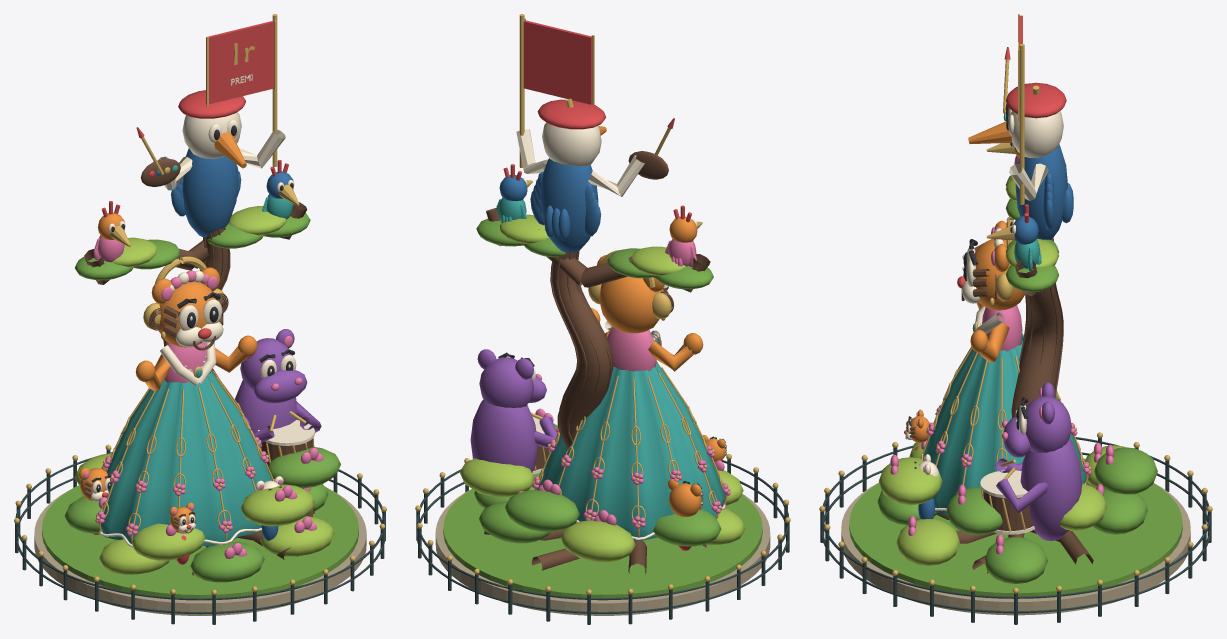
File: falla-crafted.glb
3 views of the same model, side by side, from view 1: azimuth 30°, elevation 25°; view 2: azimuth 150°, elevation 25°; view 3: azimuth 270°, elevation 25° (orthographic). The views are drawn at different scales.
Parts seen in each view (by area): view 1: Falla / leaf, Falla / teal, Falla / leaflight, Falla / white, Falla / gold, Falla / red, Falla / orange, Falla / iron, Falla / shade, Falla / violet, Falla / blue, Falla / pink (+2 smaller); view 2: Falla / leaf, Falla / teal, Falla / wood, Falla / leaflight, Falla / violet, Falla / red, Falla / orange, Falla / gold, Falla / blue, Falla / shade, Falla / iron, Falla / pink (+1 smaller); view 3: Falla / leaf, Falla / teal, Falla / violet, Falla / leaflight, Falla / wood, Falla / iron, Falla / shade, Falla / white, Falla / gold, Falla / blue, Falla / orange, Falla / pink (+2 smaller).
Part boxes in pixels (x1,y1,x2,y2): Falla / leaf: (42,213,358,598); Falla / teal: (100,165,293,545); Falla / leaflight: (75,206,334,574); Falla / white: (91,74,314,547); Falla / gold: (14,14,386,595); Falla / red: (93,21,288,564); Falla / orange: (79,132,257,532); Falla / iron: (15,450,385,624); Falla / shade: (34,489,366,615); Falla / violet: (235,329,321,442); Falla / blue: (156,148,293,540); Falla / pink: (84,235,323,558); Falla / leaf: (443,218,762,597); Falla / teal: (495,197,725,540); Falla / wood: (484,151,726,574); Falla / leaflight: (460,214,745,562); Falla / violet: (470,349,557,472); Falla / red: (503,20,691,550); Falla / orange: (591,126,725,516); Falla / gold: (415,14,790,595); Falla / blue: (499,158,601,252); Falla / shade: (435,489,770,615); Falla / iron: (416,459,789,624); Falla / pink: (517,239,730,528); Falla / leaf: (849,175,1182,596); Falla / teal: (923,113,1086,515); Falla / violet: (996,382,1082,540); Falla / leaflight: (878,178,1124,565); Falla / wood: (905,103,1094,573); Falla / iron: (820,437,1211,624); Falla / shade: (841,482,1190,615); Falla / white: (905,108,1085,534); Falla / gold: (819,14,1212,593); Falla / blue: (918,109,1073,519); Falla / orange: (910,121,1025,442); Falla / pink: (890,156,1114,554).
Size of the model in its own units: 8.37 by 12.66 by 8.37.
